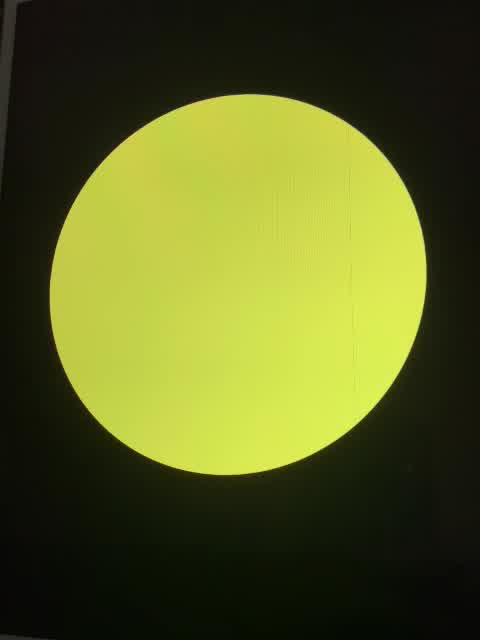left: (24, 85, 434, 483)
